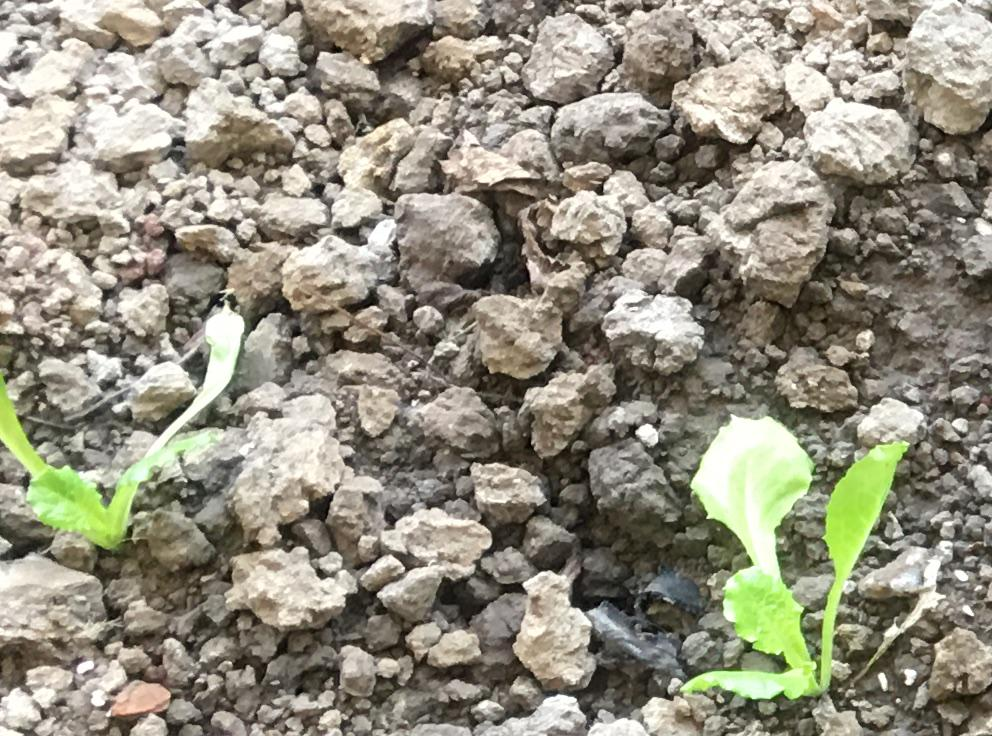block: (707, 162, 819, 308), (241, 407, 343, 535), (904, 4, 992, 138), (514, 570, 599, 698), (224, 549, 351, 634), (391, 189, 497, 288), (178, 75, 289, 169), (672, 50, 777, 147), (805, 97, 912, 190), (1, 557, 108, 647), (604, 288, 701, 374), (552, 93, 661, 168), (469, 296, 562, 383), (528, 14, 614, 99)
